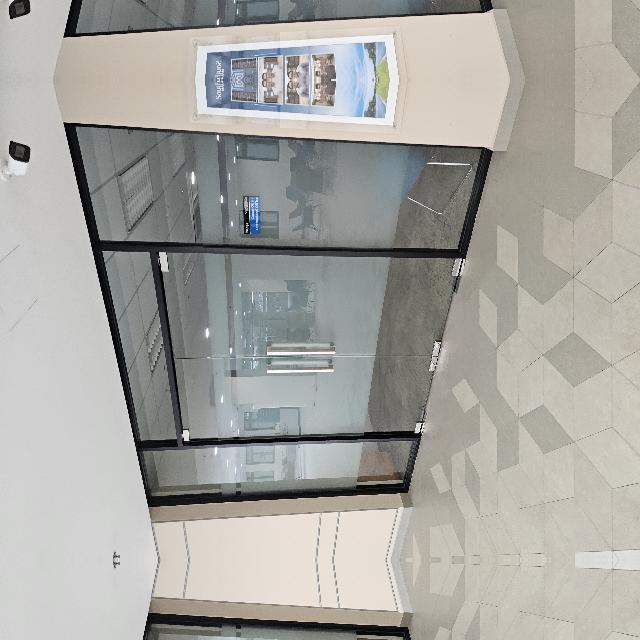door: (110, 240, 316, 560), (109, 559, 316, 640)
